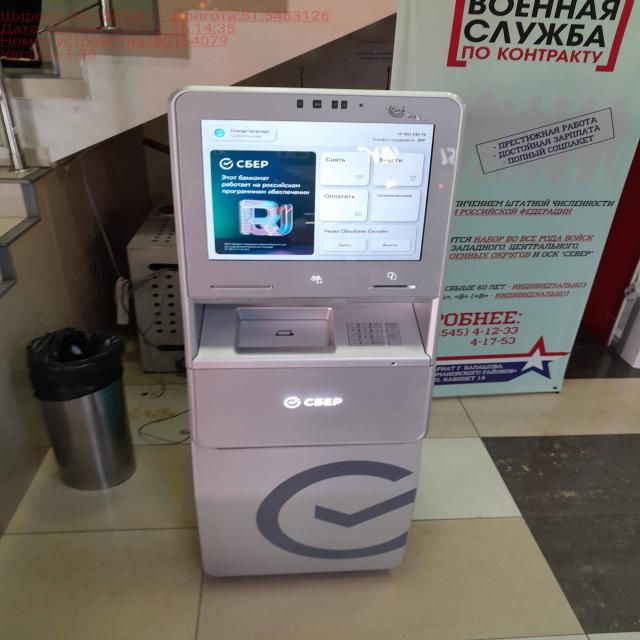bank: (165, 81, 466, 582)
